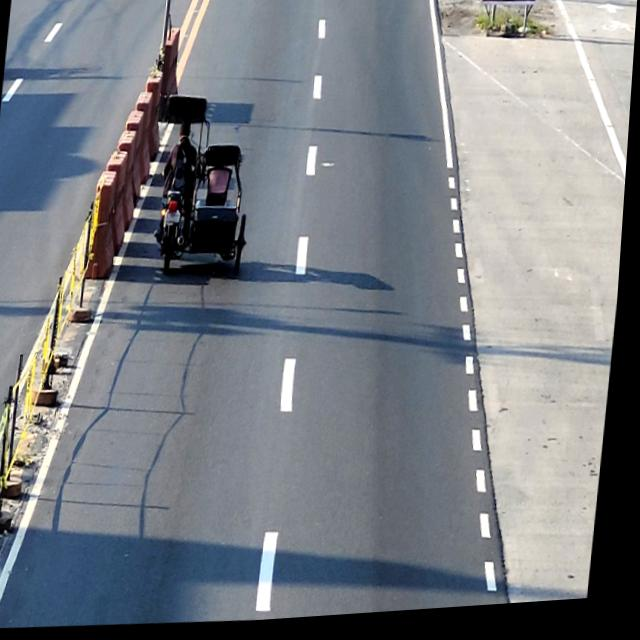License-Plate: (167, 213, 183, 227)
Tricycle: (151, 90, 263, 283)
